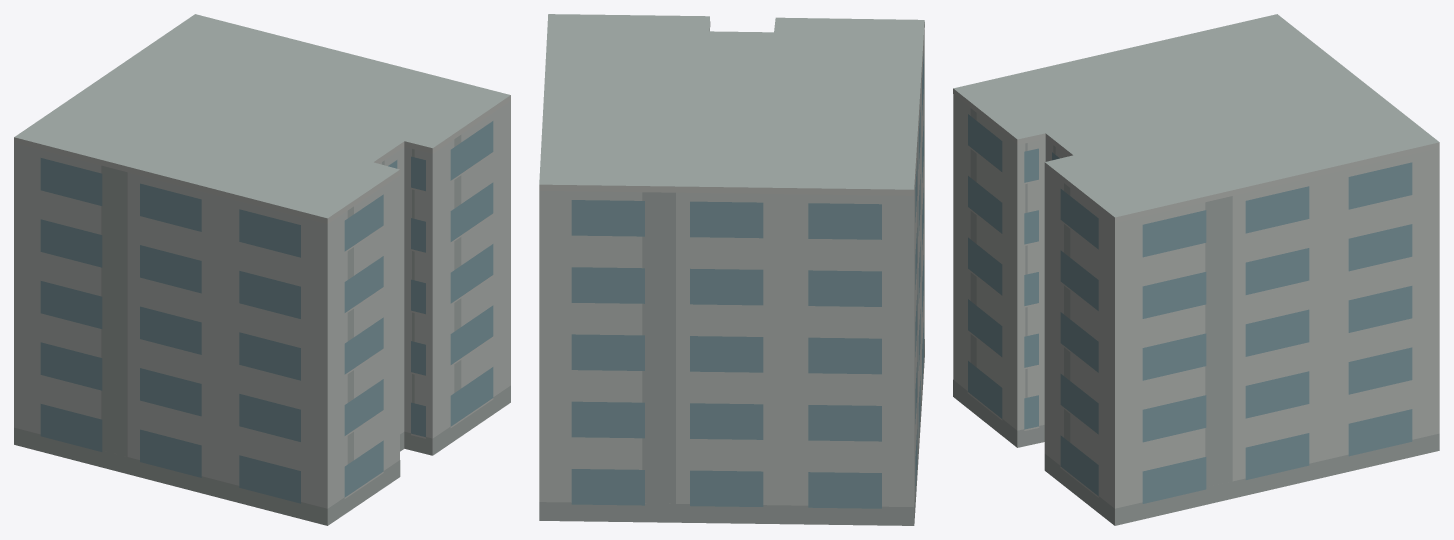
The model's file is survey-upis-32944145.glb.
3 renders of one model, left to right at view 1: azimuth 30°, elevation 25°; view 2: azimuth 150°, elevation 25°; view 3: azimuth 270°, elevation 25°, orthographic. The views are drawn at different scales.
Visible parts, largest first — view 1: survey-upis-32944145.tmp; view 2: survey-upis-32944145.tmp; view 3: survey-upis-32944145.tmp.
Part boxes in pixels (x1=…): survey-upis-32944145.tmp: x1=14, y1=14, x2=510, y2=525; survey-upis-32944145.tmp: x1=539, y1=14, x2=924, y2=525; survey-upis-32944145.tmp: x1=953, y1=14, x2=1439, y2=525.
Size of the model in its own units: 18.69 by 13.2 by 18.88.
